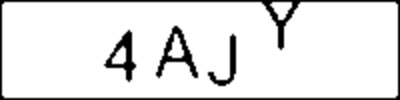4: (97, 25, 139, 86)
A: (154, 22, 201, 83)
J: (204, 29, 240, 88)
Y: (258, 1, 305, 53)
